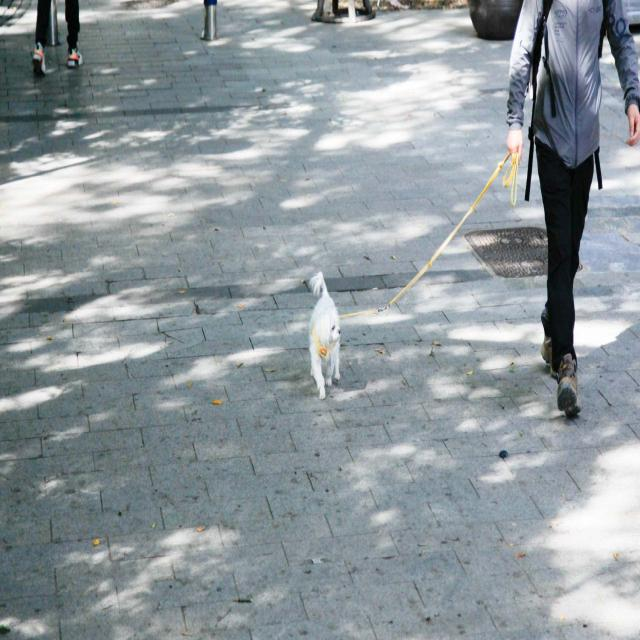Leashed_Dog: (310, 132, 569, 400)
